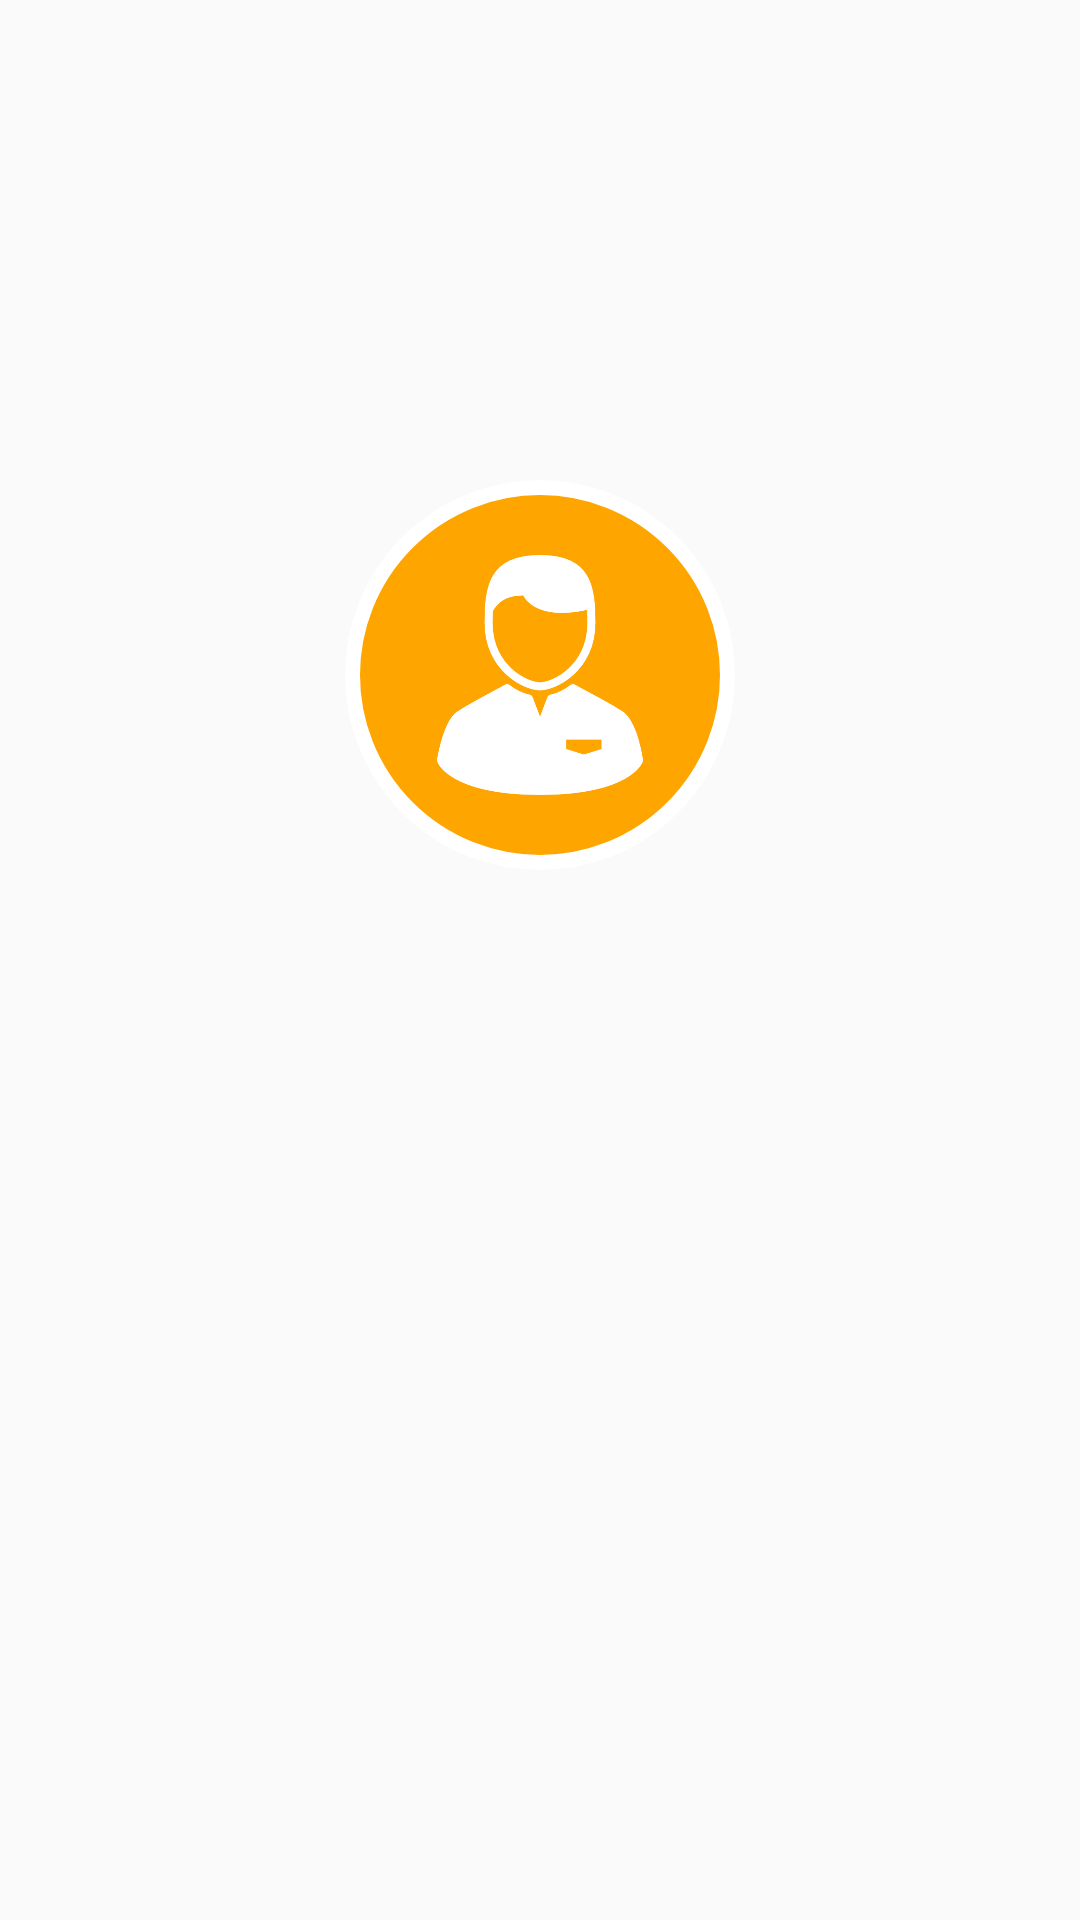

Screen size 1080px×1920px. Icon name, then its center in pixels as (x,y):
user: (540,675)
